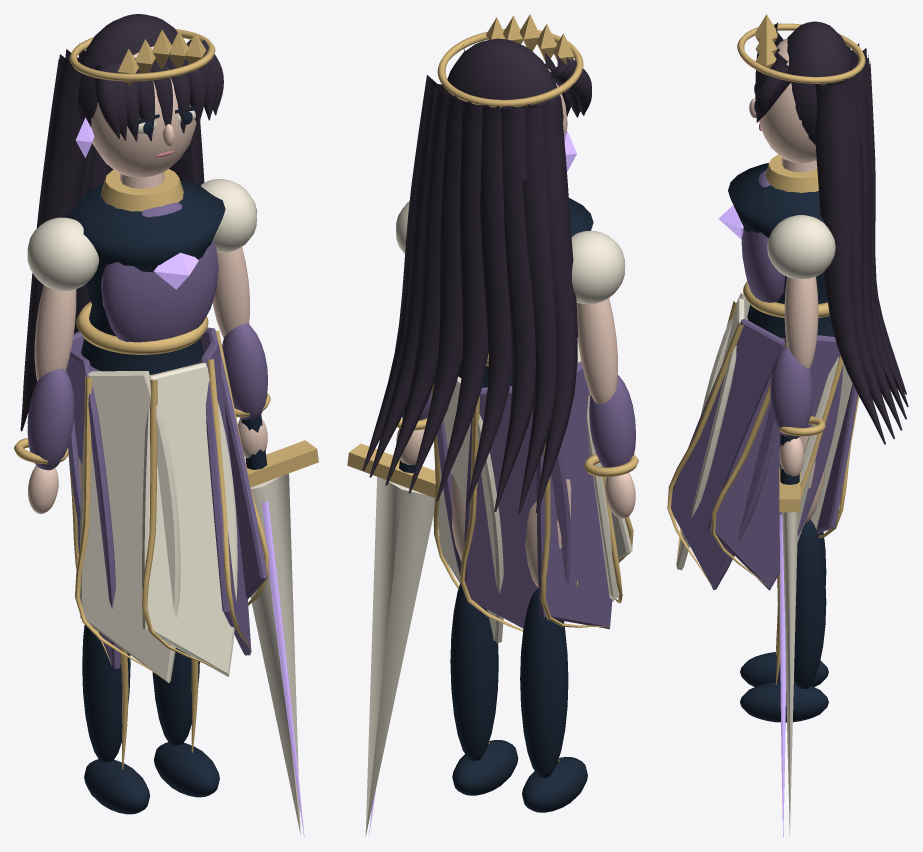
The model's file is striker.glb.
The picture shows the model from 3 angles, left to right: view 1: azimuth 30°, elevation 25°; view 2: azimuth 150°, elevation 25°; view 3: azimuth 270°, elevation 25°; orthographic projection. The views are drawn at different scales.
Parts seen in each view (by area): view 1: node_64, node_76, node_3, node_4, node_61, node_30, node_10, node_80, node_66, node_47, node_74, node_68 (+32 smaller); view 2: node_61, node_72, node_74, node_32, node_33, node_30, node_31, node_34, node_35, node_36, node_80, node_86 (+25 smaller); view 3: node_66, node_68, node_38, node_3, node_86, node_37, node_11, node_53, node_36, node_55, node_61, node_10 (+22 smaller).
Boxes of the visible parts, bbox=[...] form: node_64: bbox=[142, 362, 237, 676]; node_76: bbox=[80, 371, 180, 683]; node_3: bbox=[61, 180, 225, 375]; node_4: bbox=[101, 202, 218, 342]; node_61: bbox=[250, 473, 300, 833]; node_30: bbox=[20, 59, 87, 431]; node_10: bbox=[91, 46, 196, 177]; node_80: bbox=[82, 625, 130, 762]; node_66: bbox=[201, 341, 251, 655]; node_47: bbox=[27, 217, 98, 290]; node_74: bbox=[67, 348, 120, 668]; node_68: bbox=[197, 327, 267, 599]; node_61: bbox=[365, 477, 434, 836]; node_72: bbox=[464, 386, 570, 628]; node_74: bbox=[536, 361, 613, 628]; node_32: bbox=[494, 104, 535, 511]; node_33: bbox=[466, 105, 512, 507]; node_30: bbox=[521, 98, 577, 512]; node_31: bbox=[512, 100, 556, 513]; node_34: bbox=[436, 101, 493, 501]; node_35: bbox=[408, 92, 471, 493]; node_36: bbox=[385, 86, 463, 485]; node_80: bbox=[520, 588, 568, 778]; node_86: bbox=[450, 583, 498, 761]; node_66: bbox=[671, 318, 785, 589]; node_68: bbox=[708, 335, 843, 590]; node_38: bbox=[815, 80, 885, 444]; node_3: bbox=[728, 163, 834, 338]; node_86: bbox=[794, 519, 826, 688]; node_37: bbox=[826, 77, 894, 438]; node_11: bbox=[787, 21, 853, 144]; node_53: bbox=[767, 215, 835, 279]; node_36: bbox=[836, 72, 902, 430]; node_55: bbox=[770, 346, 813, 438]; node_61: bbox=[781, 512, 798, 835]; node_10: bbox=[759, 38, 816, 163].
Size of the model in its own units: 0.7611 by 2.15 by 0.6234.
